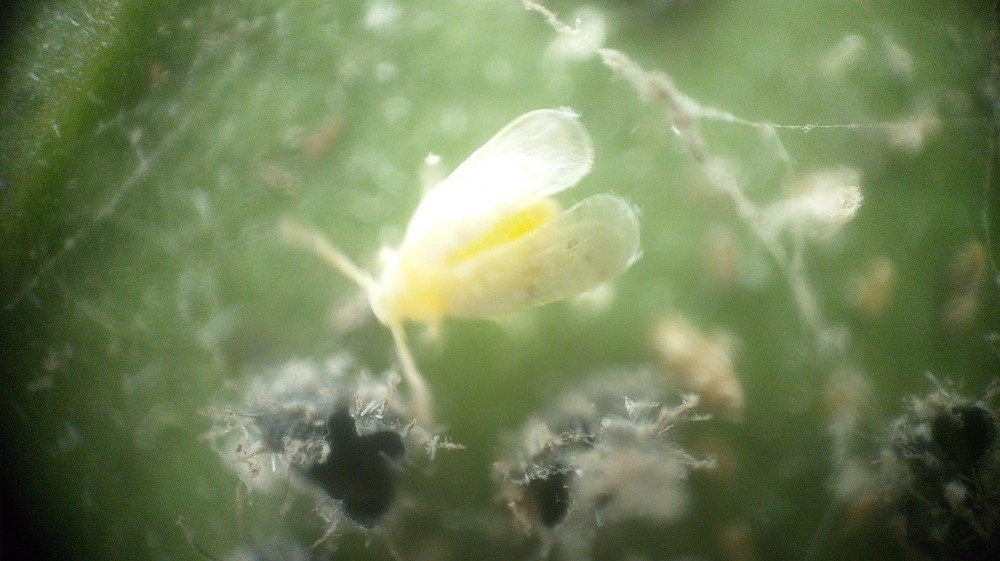Mosca Blanca: (256, 100, 667, 428)
